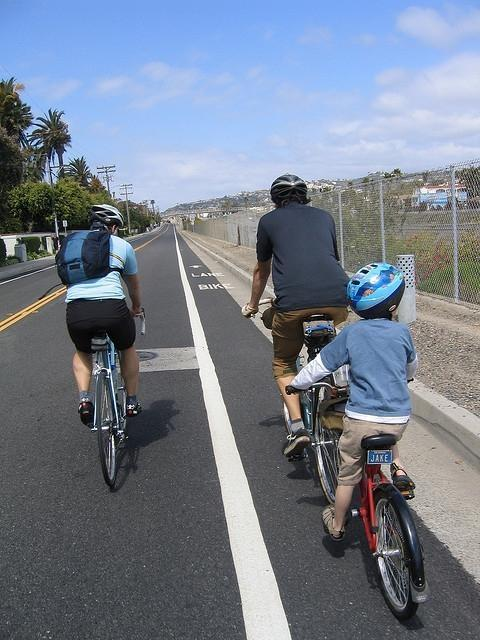bicycle: (319, 379, 432, 627), (258, 297, 336, 476), (88, 337, 130, 492)
